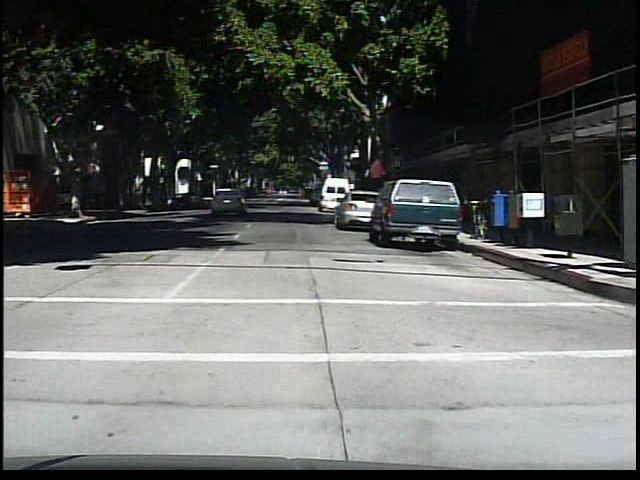person: (63, 180, 80, 219)
